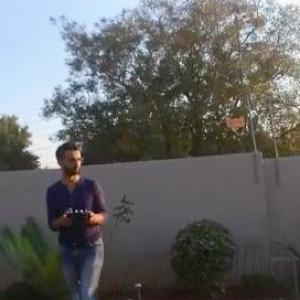follow: (43, 139, 115, 299)
